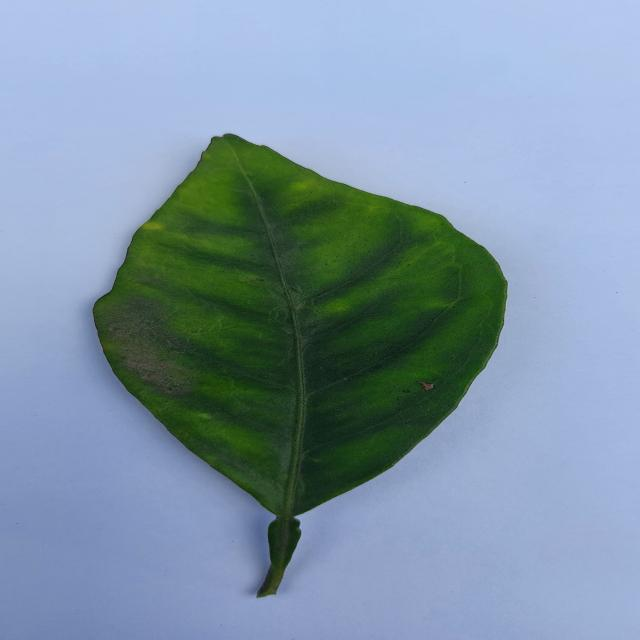greening: (94, 134, 506, 597)
